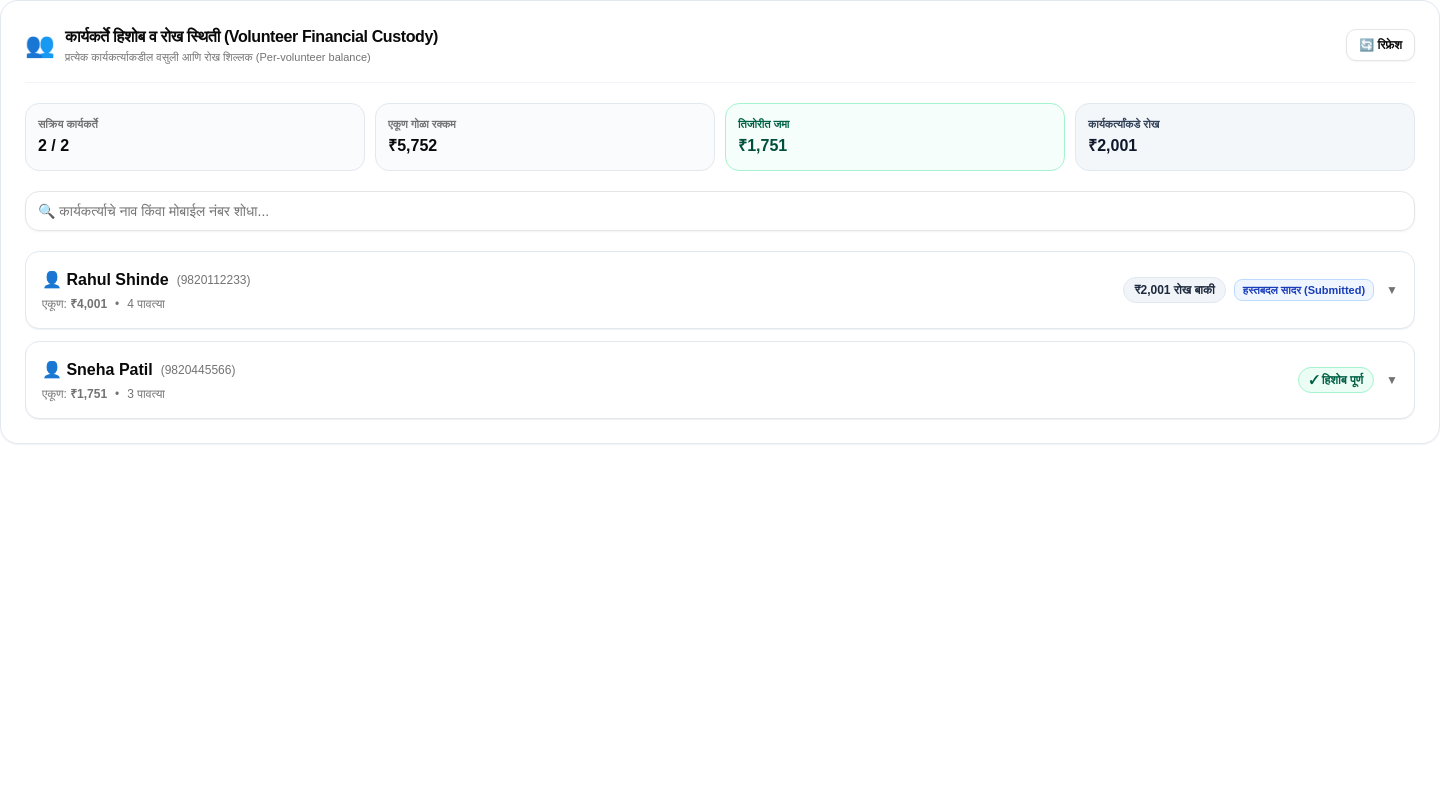
Test: VolunteerFinancialLedger › 4. expands card to reveal physical/digital breakdown on interaction
Click on Rahul Shinde's card to expand
Step 1. Click the button "Rahul Shinde" → click(118, 280), box [26,252,1414,328]
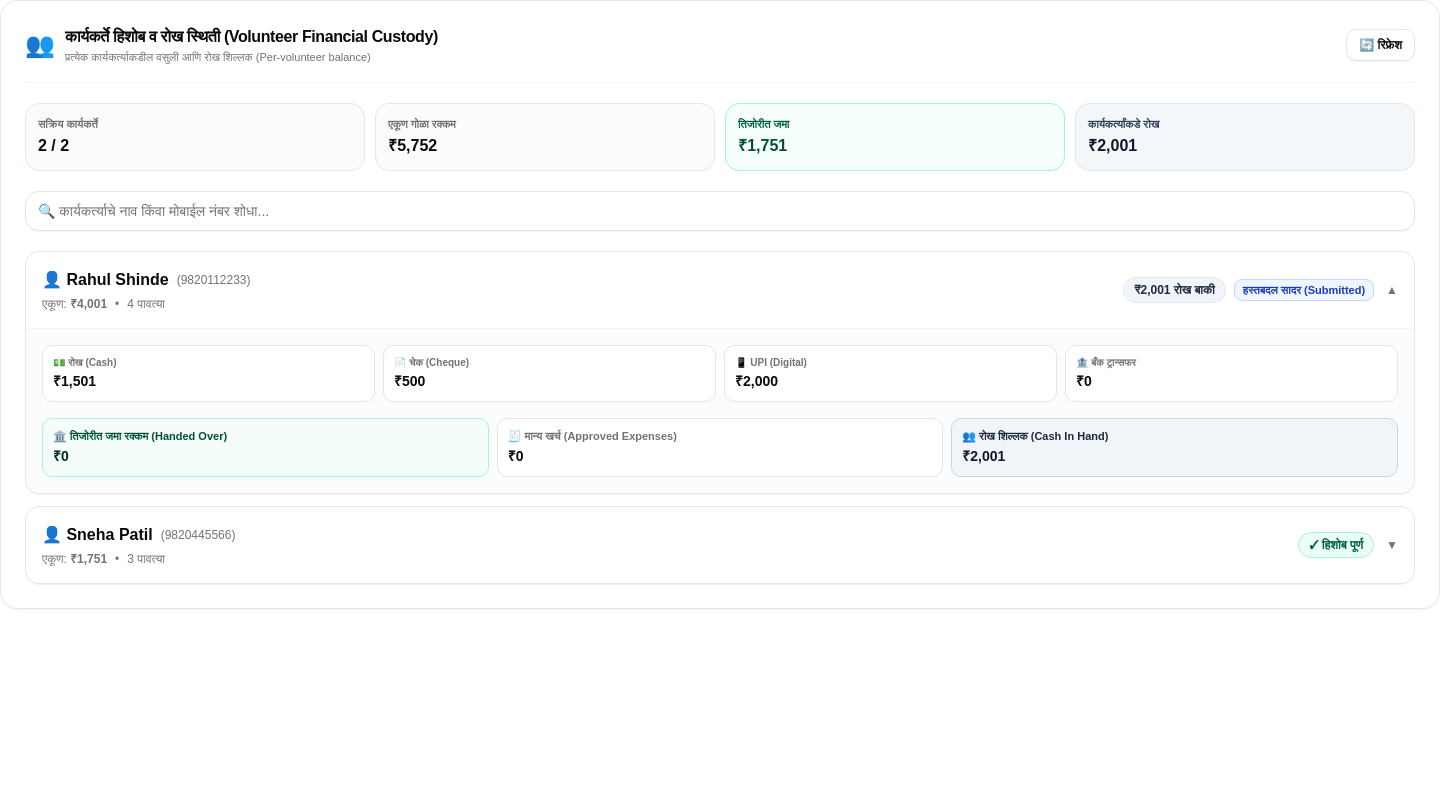
Expected: the text "💵 रोख (Cash)" is shown, [53,357,117,368]
Expected: the text "📄 चेक (Cheque)" is shown, [394,357,469,368]
Expected: the text "📱 UPI (Digital)" is shown, [735,357,807,368]
